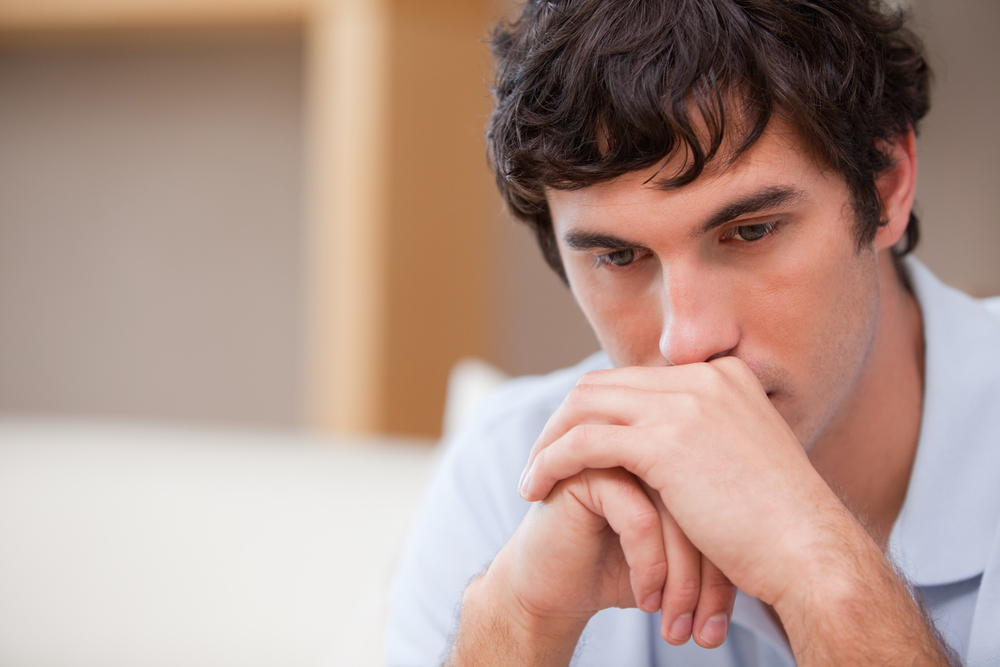sad: (543, 163, 871, 452)
